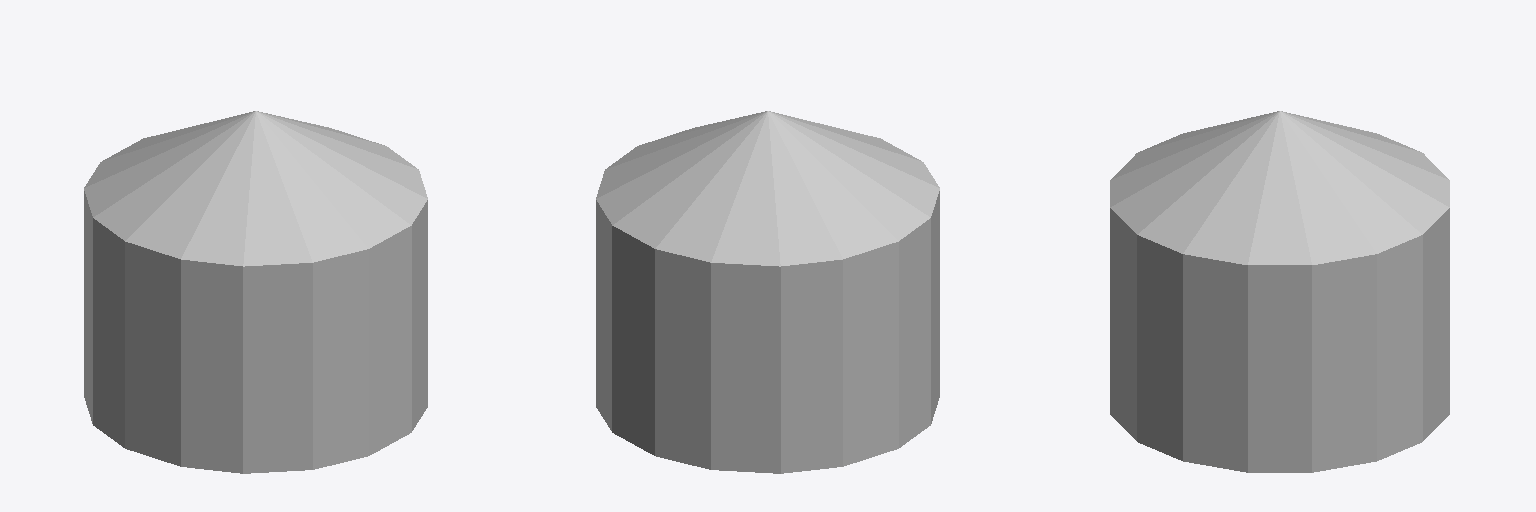
The model's file is cornSilo.obj.
3 renders of one model, left to right at view 1: azimuth 30°, elevation 25°; view 2: azimuth 150°, elevation 25°; view 3: azimuth 270°, elevation 25°, orthographic.
Parts seen in each view (by area): view 1: CornSilo; view 2: CornSilo; view 3: CornSilo.
Part boxes in pixels (left/top/right/bottom): CornSilo: left=84, top=111, right=427, bottom=473; CornSilo: left=596, top=111, right=939, bottom=473; CornSilo: left=1110, top=111, right=1449, bottom=472.
Bounding box in the file's own units: 37.08 × 35 × 37.08.